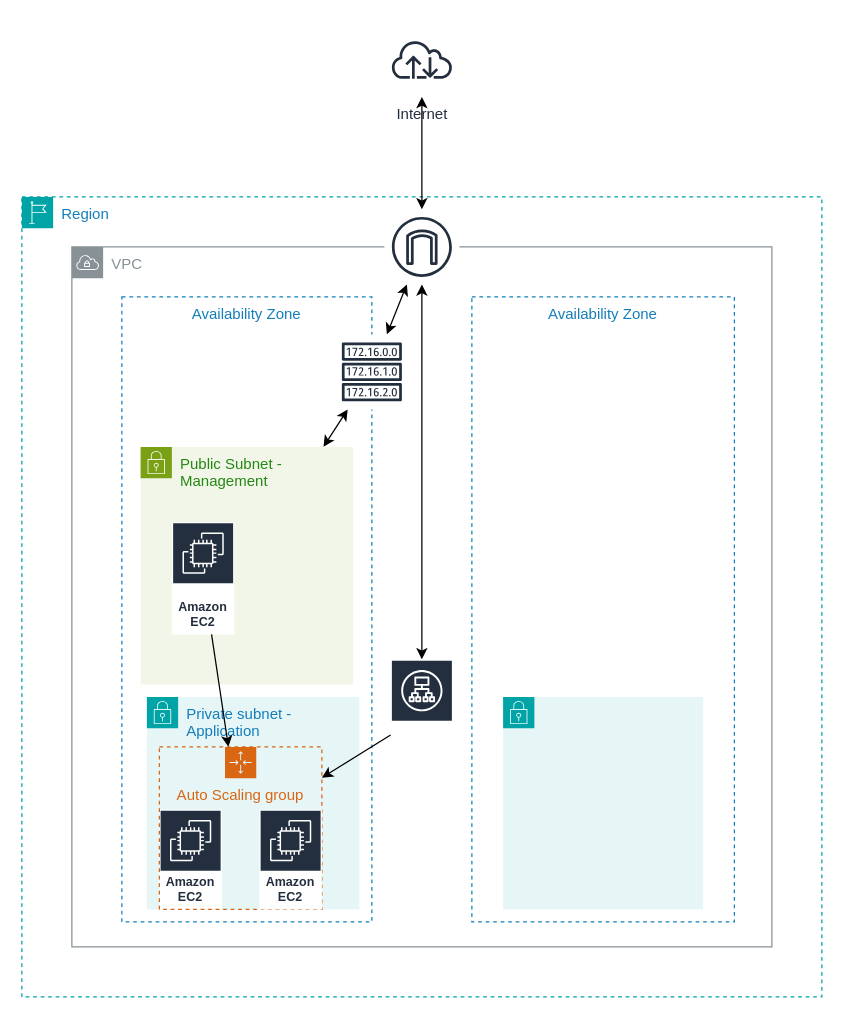
The diagram is 844 pixels wide and 1019 high, and some of its shapes have lost their labels. Each missing label, with the centre of its shape:
Application Load Balancer: point 421,715
Internet gateway: point 421,246
Private subnet - Backend: point 602,802
Route table: point 371,371
